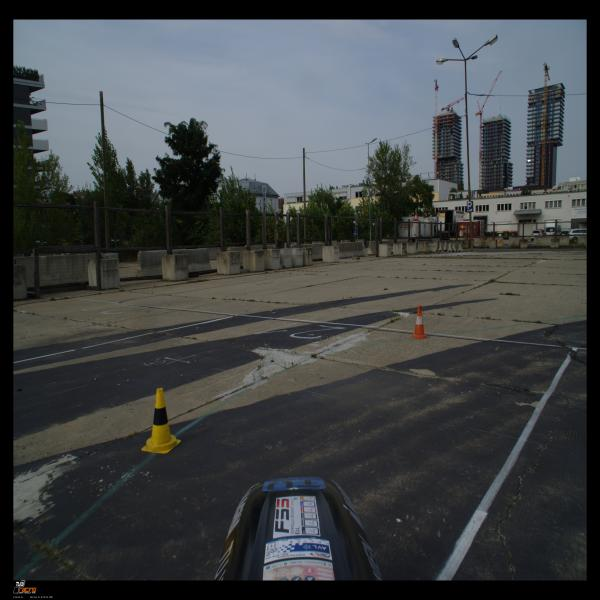orange_cone: (409, 304, 430, 340)
yellow_cone: (141, 387, 181, 454)
